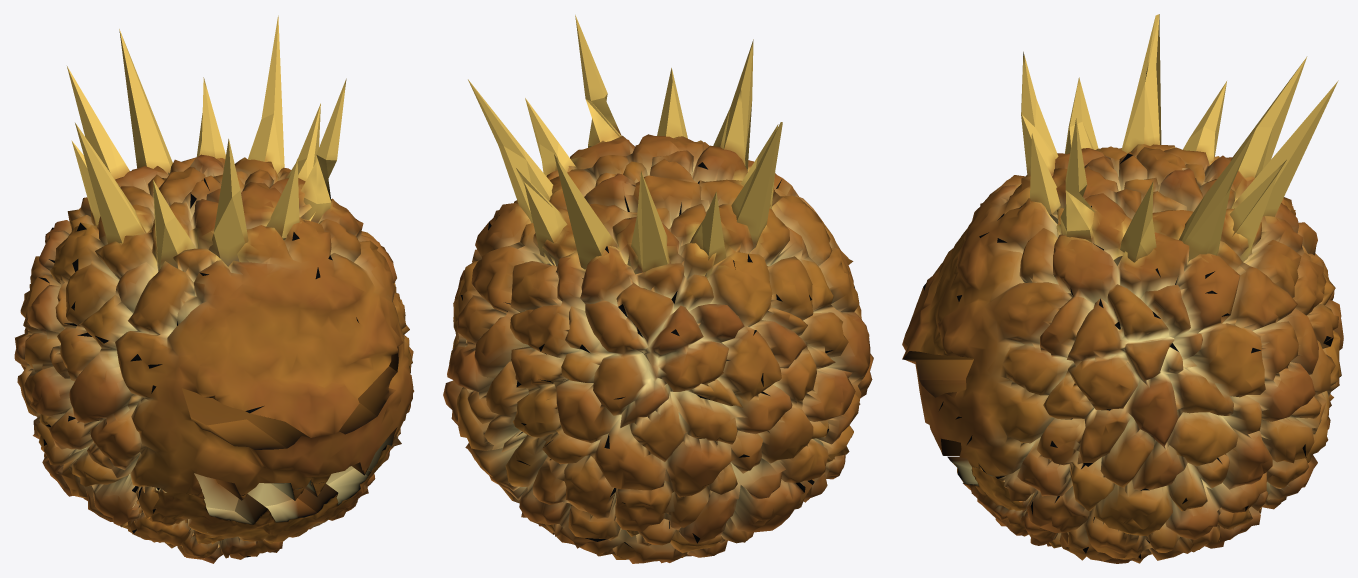
File: Solar.fbx
3 renders of one model, left to right at view 1: azimuth 30°, elevation 25°; view 2: azimuth 150°, elevation 25°; view 3: azimuth 270°, elevation 25°, orthographic. The views are drawn at different scales.
Visible parts, largest first — view 1: Body, Jaw; view 2: Body; view 3: Body, Jaw.
Part boxes in pixels (left/top/right/bottom): Body: left=14, top=15, right=414, bottom=563; Jaw: left=126, top=436, right=397, bottom=558; Body: left=443, top=15, right=873, bottom=563; Body: left=902, top=14, right=1343, bottom=563; Jaw: left=939, top=447, right=1069, bottom=550.
Bounding box in the file's own units: 1.03 × 1.28 × 1.04.
2 materials, 2 textured.
